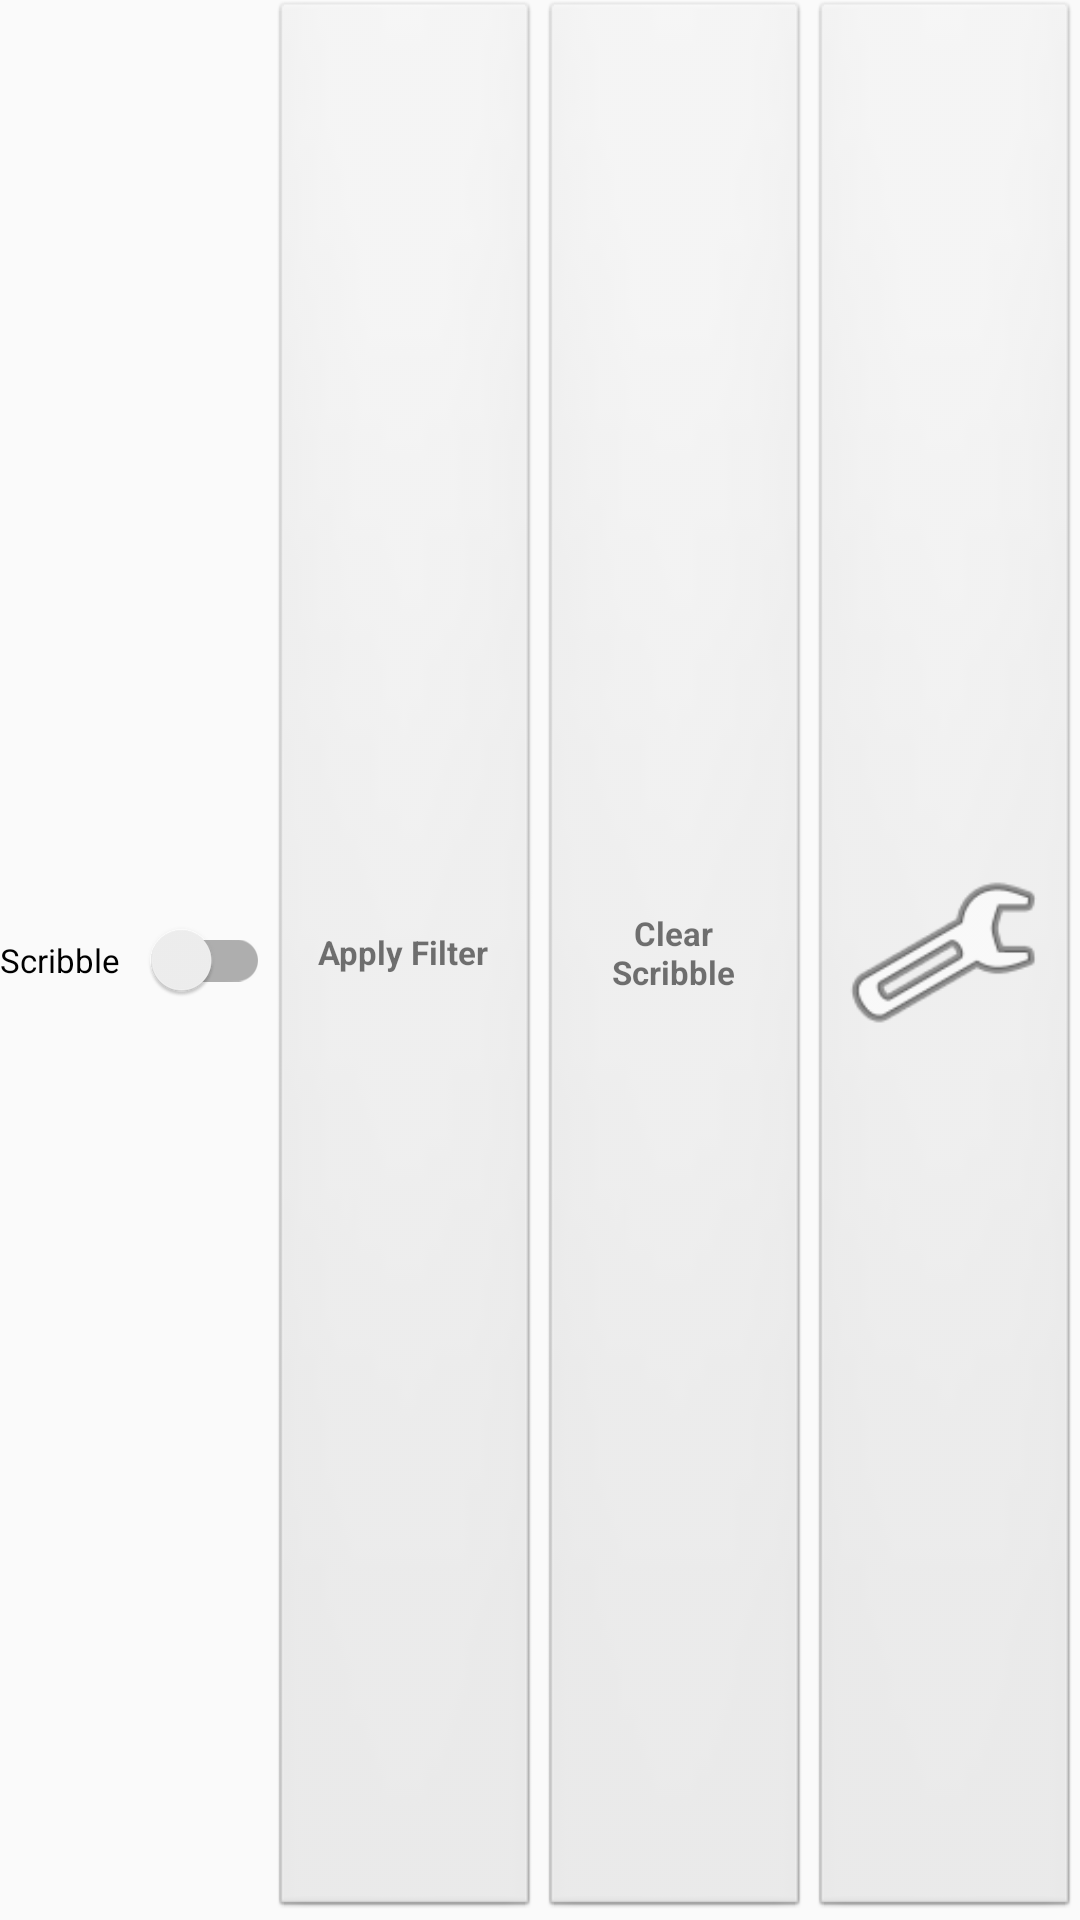

Point at icon controls on the screen. Image size 1080px x 1920px, points as point (x, y).
manage: point (943, 952)
